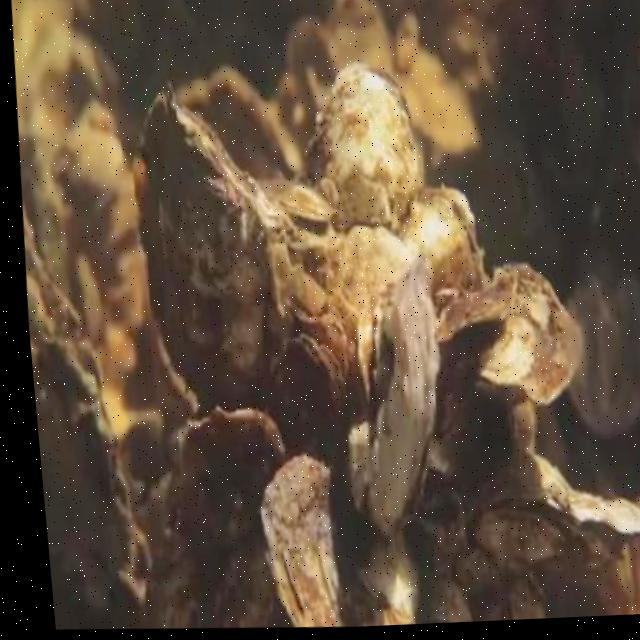Oyster-Closed: (270, 333, 349, 466), (355, 300, 391, 409), (567, 492, 640, 542), (505, 149, 543, 232), (614, 541, 640, 615)
Oyster-Indeterminate: (22, 205, 151, 611), (132, 87, 285, 410), (363, 270, 443, 543), (298, 60, 423, 233), (436, 265, 584, 405), (261, 454, 365, 627), (179, 409, 288, 550), (177, 69, 302, 179), (299, 228, 414, 340), (470, 496, 602, 570), (401, 186, 483, 292), (398, 52, 479, 153), (333, 0, 396, 72), (288, 17, 335, 91), (257, 176, 332, 221), (393, 19, 419, 71), (306, 68, 321, 118)
